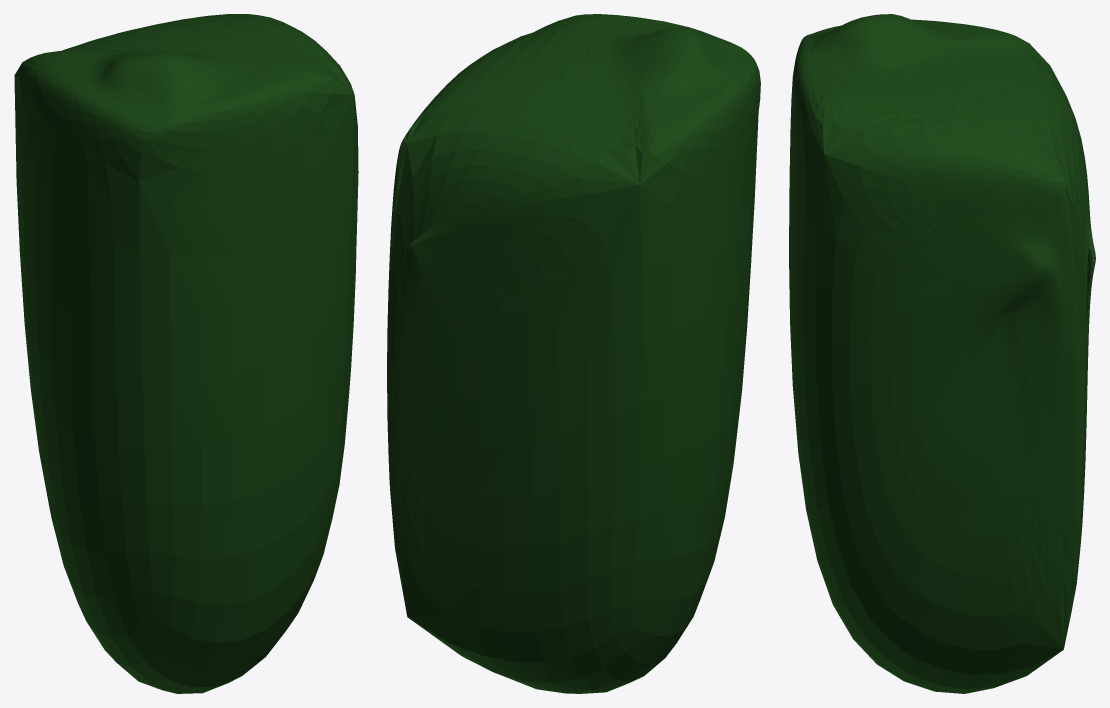
3 renders of one model, left to right at view 1: azimuth 30°, elevation 25°; view 2: azimuth 150°, elevation 25°; view 3: azimuth 270°, elevation 25°, orthographic. The views are drawn at different scales.
Parts seen in each view (by area): view 1: 192_Cube.796; view 2: 192_Cube.796; view 3: 192_Cube.796.
Part boxes in pixels (x1,y1,x2,y2): 192_Cube.796: (14,14,358,693); 192_Cube.796: (387,14,760,693); 192_Cube.796: (789,14,1095,693).
Bounding box in the file's own units: 5.32 × 11.73 × 5.14.
